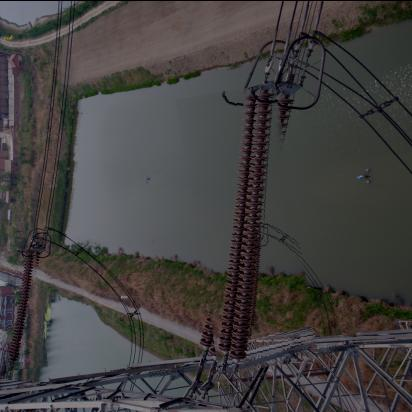insulator: (187, 87, 309, 372), (1, 250, 46, 370)
